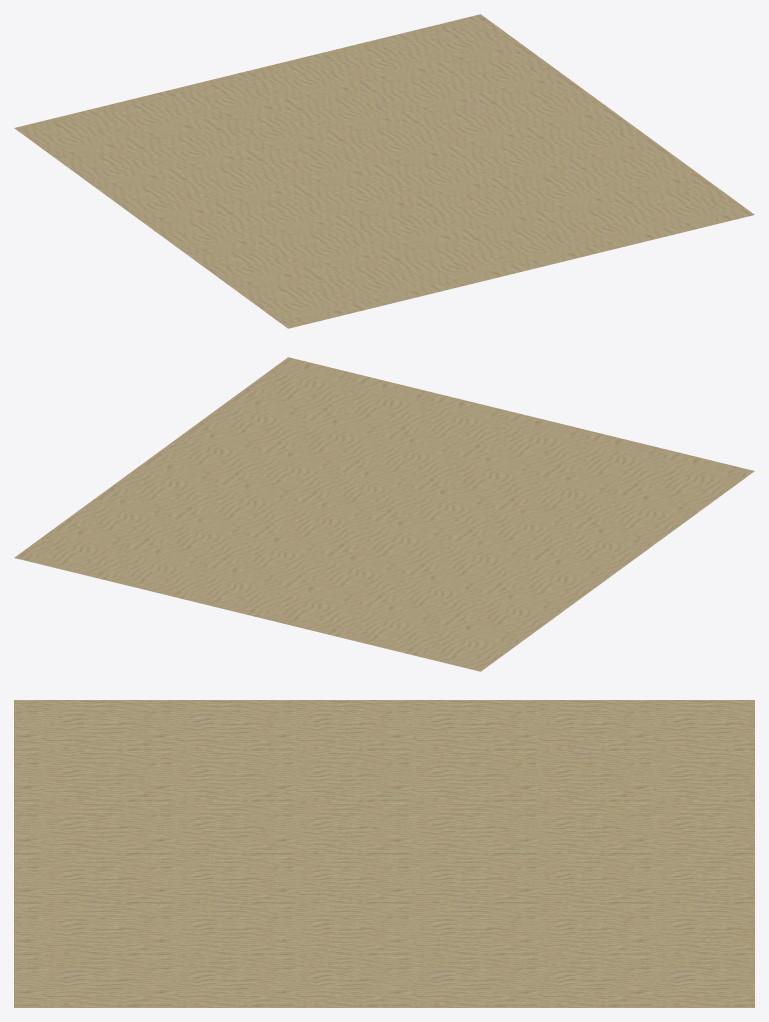
Rendered from EnvPla.fbx.
The picture shows the model from 3 angles, top to bottom: view 1: azimuth 30°, elevation 25°; view 2: azimuth 150°, elevation 25°; view 3: azimuth 270°, elevation 25°; orthographic projection. The views are drawn at different scales.
Parts seen in each view (by area): view 1: pPlane1; view 2: pPlane1; view 3: pPlane1.
Part boxes in pixels (bbox=[...]): pPlane1: bbox=[14, 14, 754, 328]; pPlane1: bbox=[14, 357, 754, 671]; pPlane1: bbox=[14, 700, 754, 1007].
Bounding box in the file's own units: 295 × 6.66e-14 × 300.
Materials: 1 (1 with a texture image).
